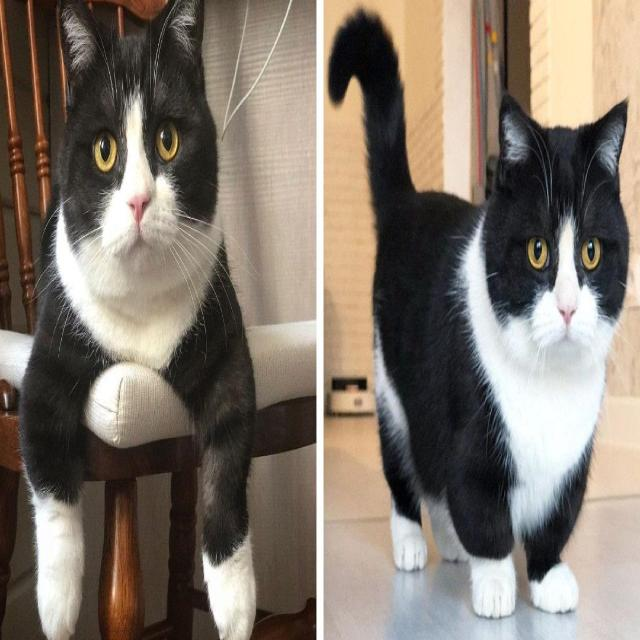Munchkin: (327, 0, 632, 620), (16, 0, 261, 640)
